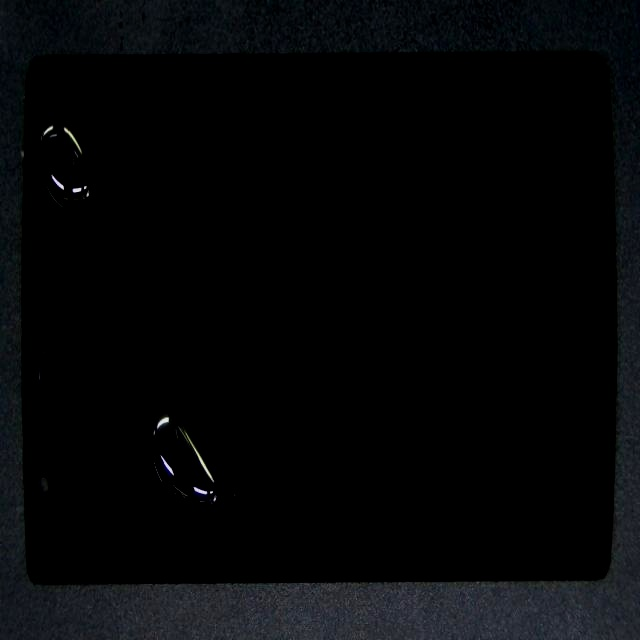oil: (125, 267, 326, 640), (41, 131, 139, 295)
